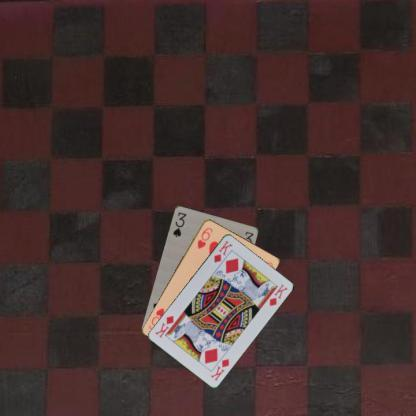3s: (170, 209, 188, 238)
6h: (194, 225, 214, 250)
Kd: (210, 238, 233, 264), (208, 356, 230, 382)
